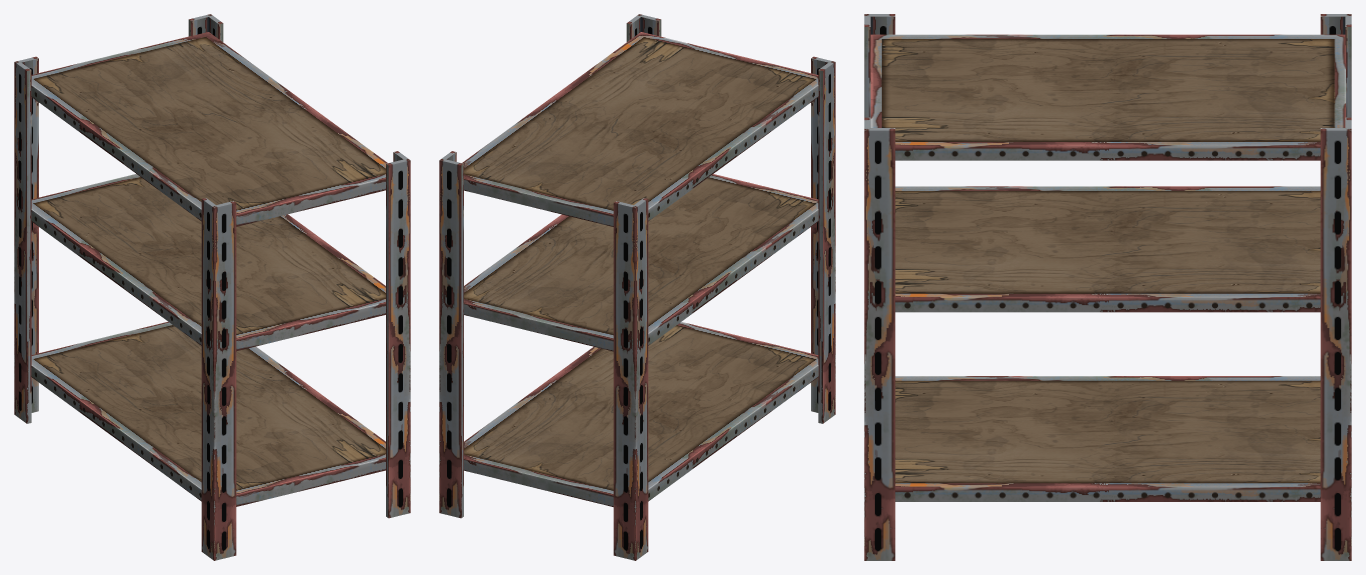
File: metalShelf01_C.fbx
3 renders of one model, left to right at view 1: azimuth 30°, elevation 25°; view 2: azimuth 150°, elevation 25°; view 3: azimuth 270°, elevation 25°, orthographic. The views are drawn at different scales.
Parts seen in each view (by area): view 1: metalShelf01_C; view 2: metalShelf01_C; view 3: metalShelf01_C.
Boxes of the visible parts, bbox=[...] form: metalShelf01_C: bbox=[14, 14, 410, 560]; metalShelf01_C: bbox=[439, 14, 835, 560]; metalShelf01_C: bbox=[864, 14, 1351, 560].
Bounding box in the file's own units: 52.4 × 90 × 92.4.
